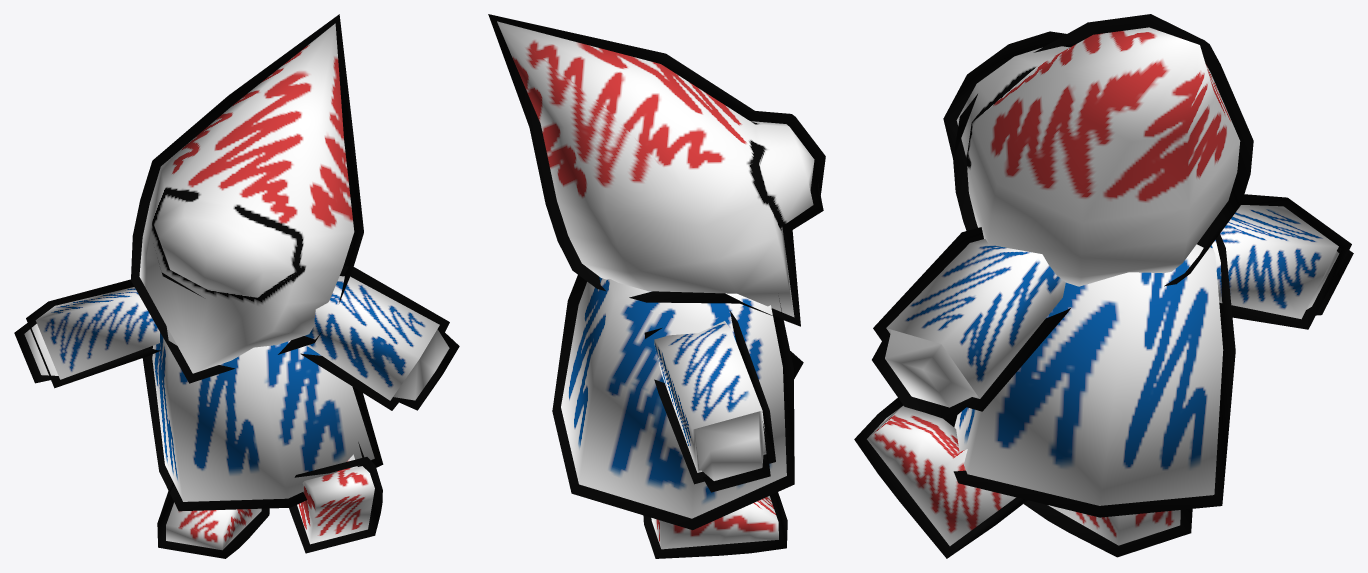
File: Alfredito.glb
3 views of the same model, side by side, from view 1: azimuth 30°, elevation 25°; view 2: azimuth 150°, elevation 25°; view 3: azimuth 270°, elevation 25° (orthographic). The views are drawn at different scales.
Parts seen in each view (by area): view 1: Alfredo; view 2: Alfredo; view 3: Alfredo.
Part boxes in pixels (left/top/right/bottom): Alfredo: left=14, top=14, right=459, bottom=558; Alfredo: left=488, top=14, right=825, bottom=558; Alfredo: left=854, top=14, right=1353, bottom=558.
Bounding box in the file's own units: 0.5327 × 0.7783 × 0.6048.
2 materials, 1 textured.
